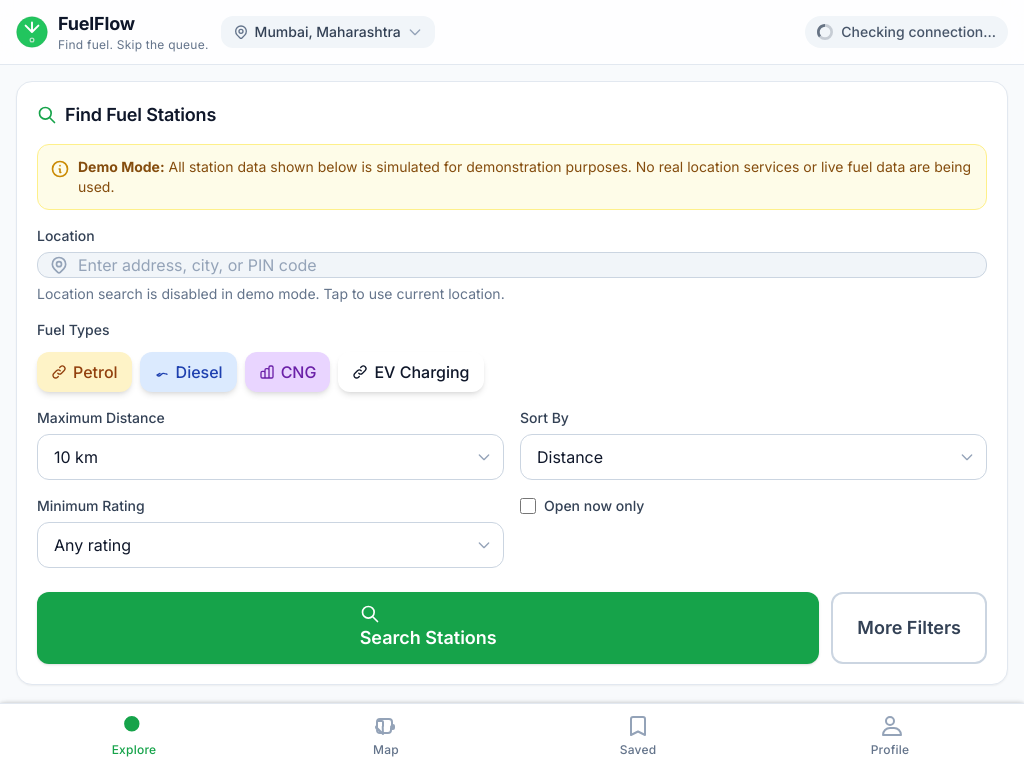
App › displays map component section when map tab is clicked
Click the button "Map".
click(386, 736)  # box 260,714 -> 512,758
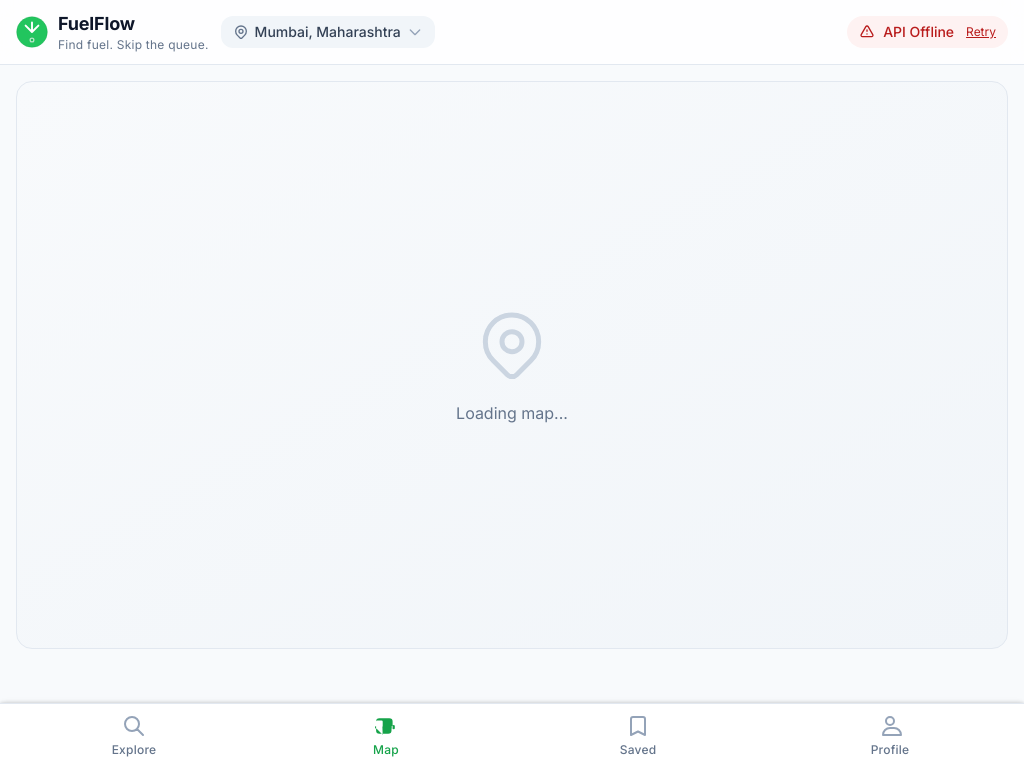
Result: the text "Loading map..." is shown at 456,401 -> 568,425
